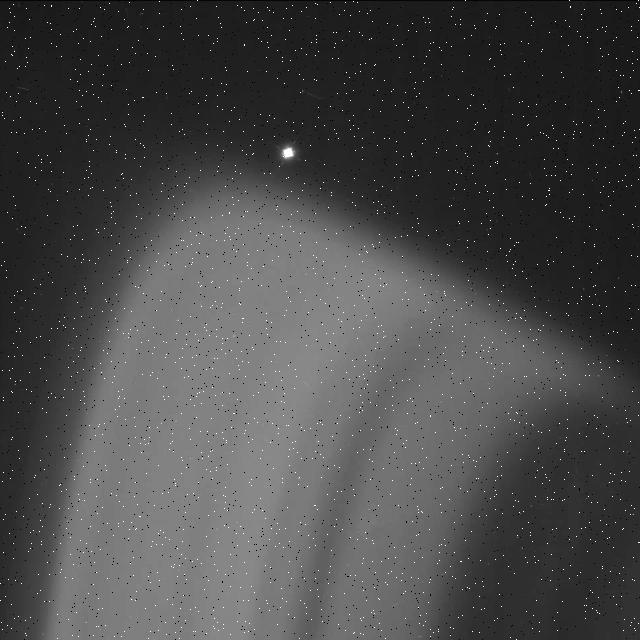Saturn: (0, 123, 640, 640)
